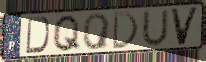D: (111, 10, 140, 50), (24, 16, 51, 55)
Q: (51, 13, 83, 54), (82, 11, 112, 52)
U: (140, 7, 170, 49)
V: (169, 6, 201, 47)
